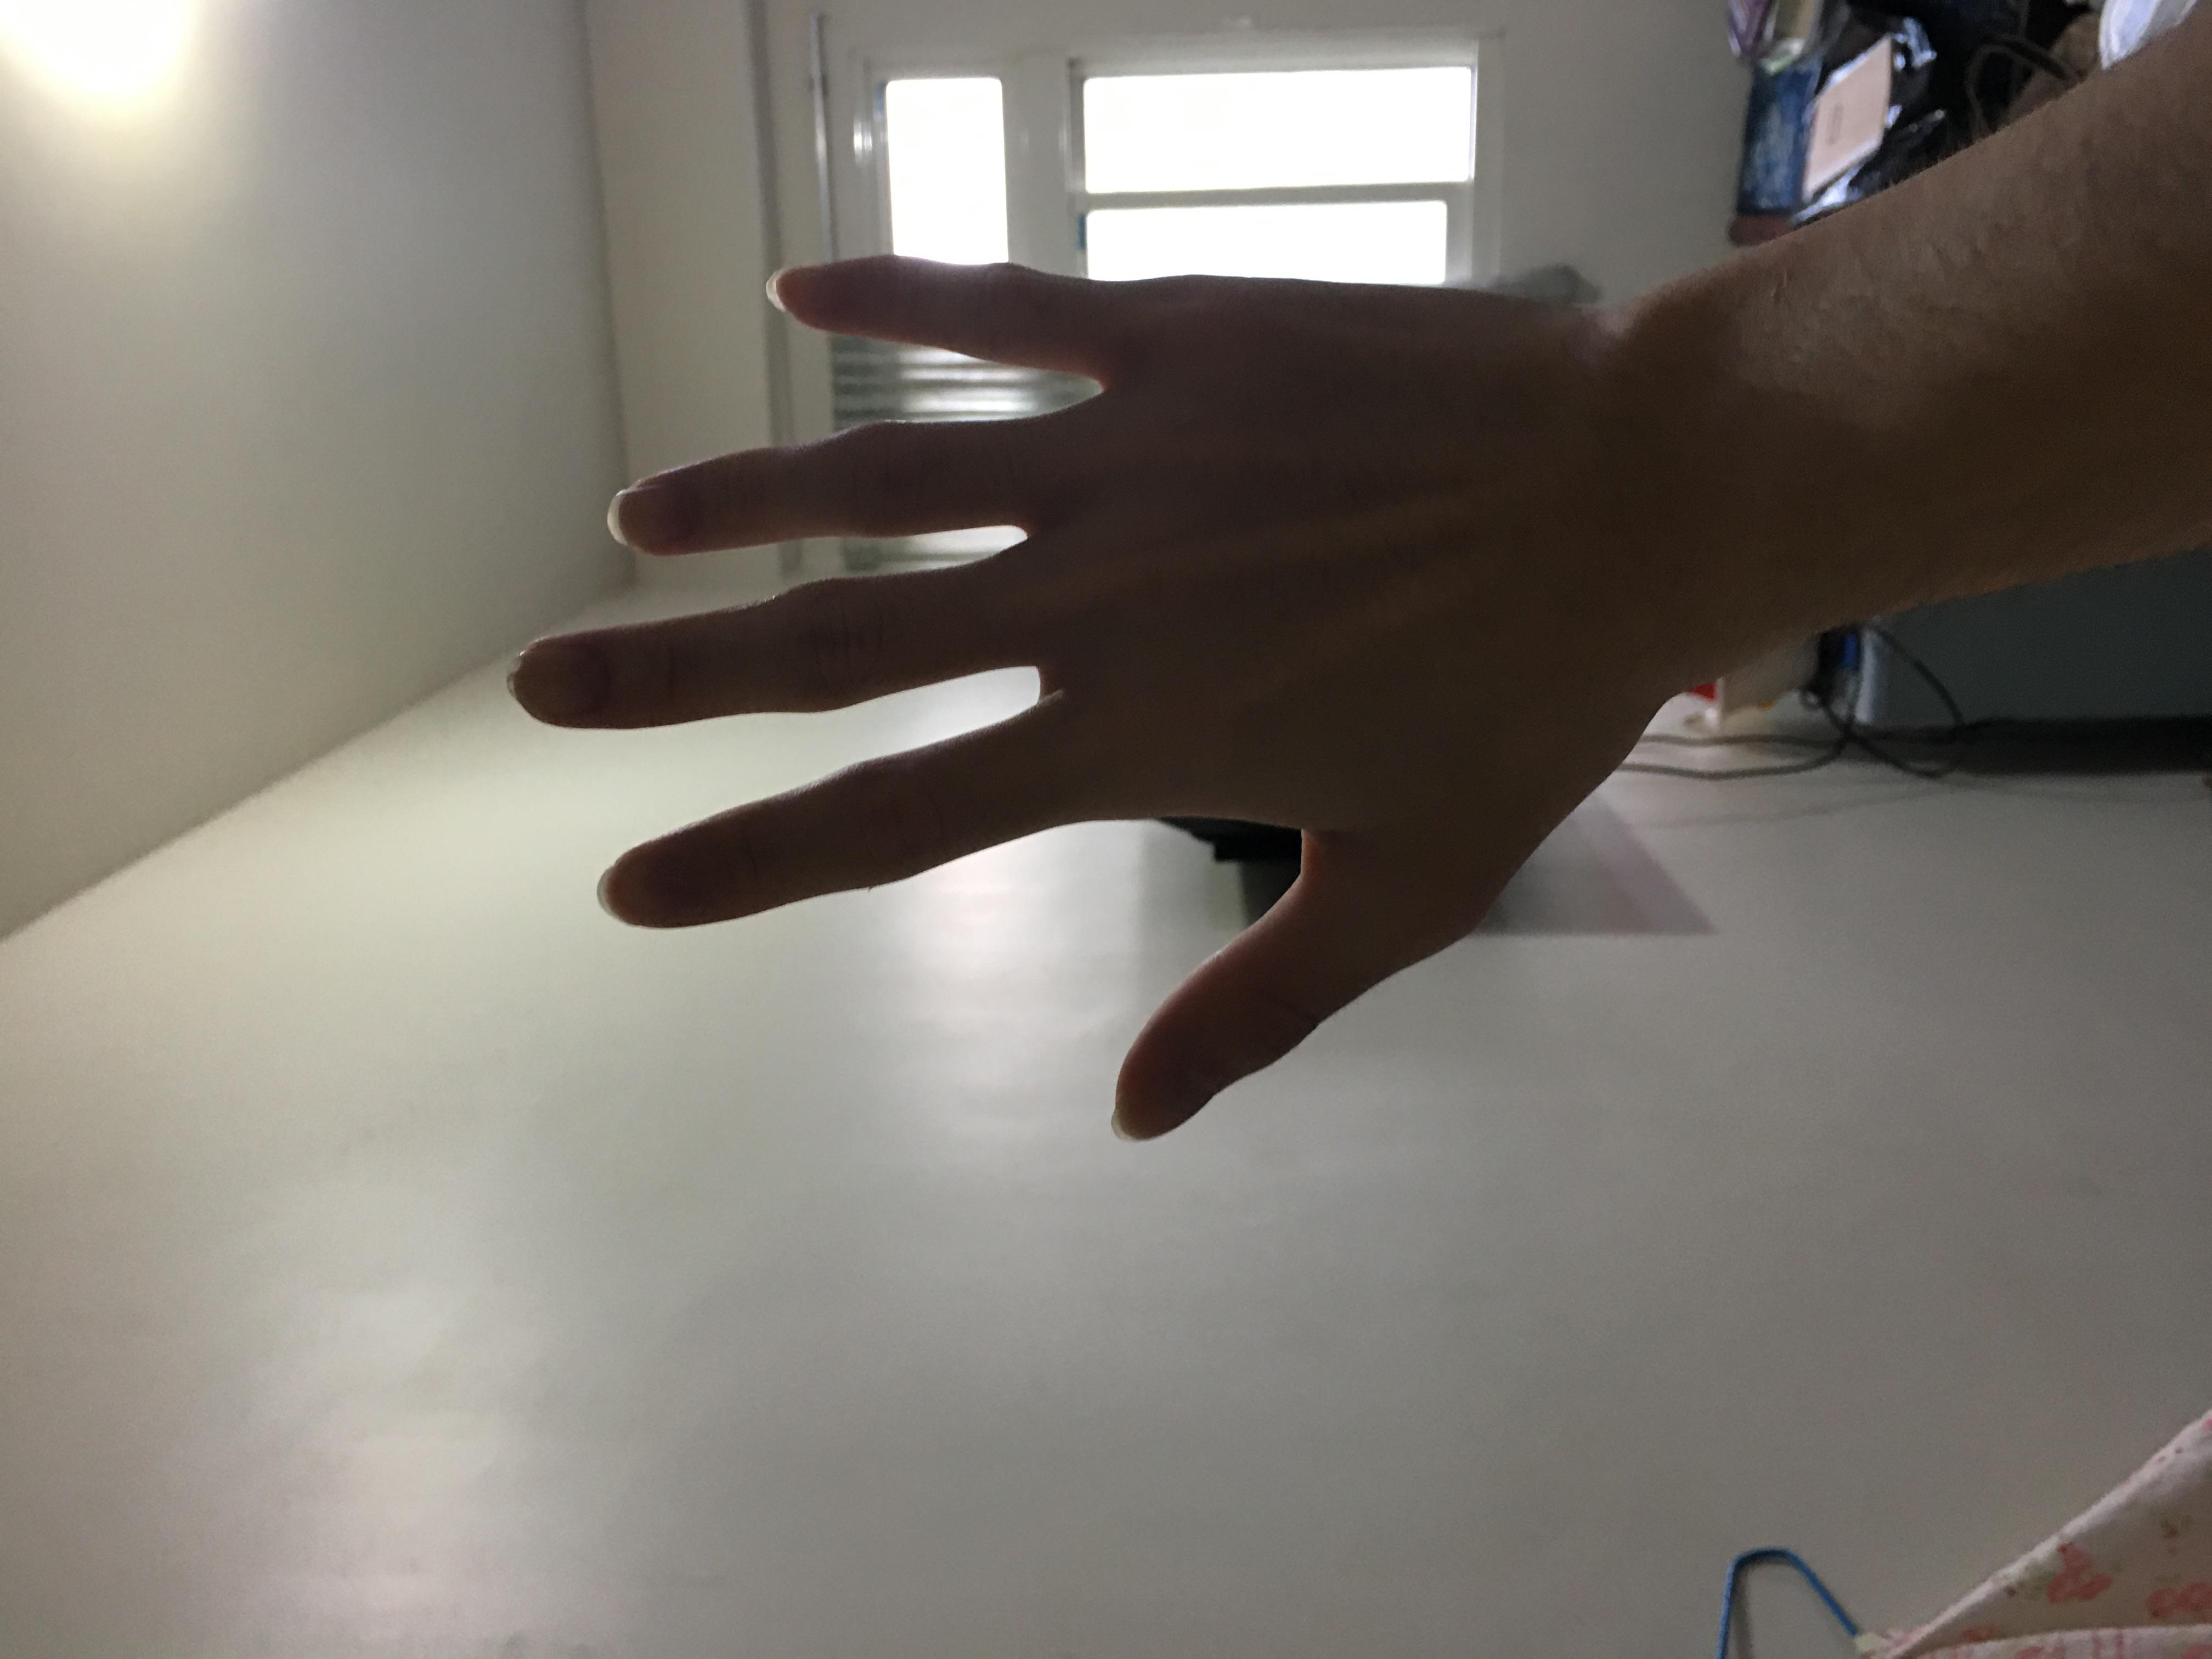hand: (681, 375, 1893, 1243)
